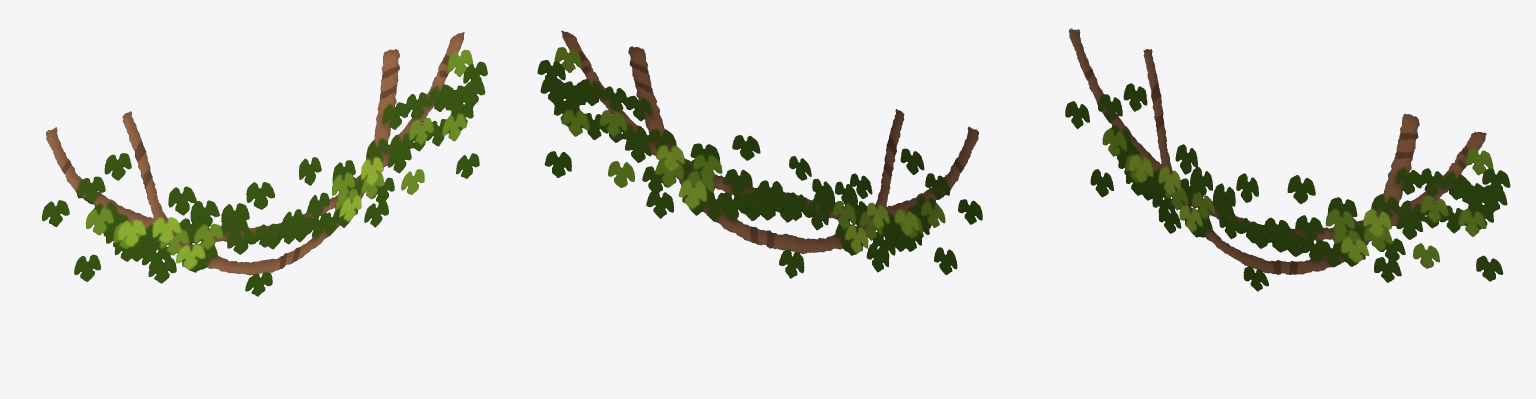
The model's file is sp_veg_ivy_03.fbx.
The picture shows the model from 3 angles, left to right: view 1: azimuth 30°, elevation 25°; view 2: azimuth 150°, elevation 25°; view 3: azimuth 330°, elevation 25°; orthographic projection.
Visible parts, largest first — view 1: veg_ivy_03; view 2: veg_ivy_03; view 3: veg_ivy_03.
Part boxes in pixels (x1,y1,x2,y2): veg_ivy_03: (42,32,487,296); veg_ivy_03: (537,31,982,278); veg_ivy_03: (1065,28,1510,291).
Size of the model in its own units: 100 by 50 by 8.02.
